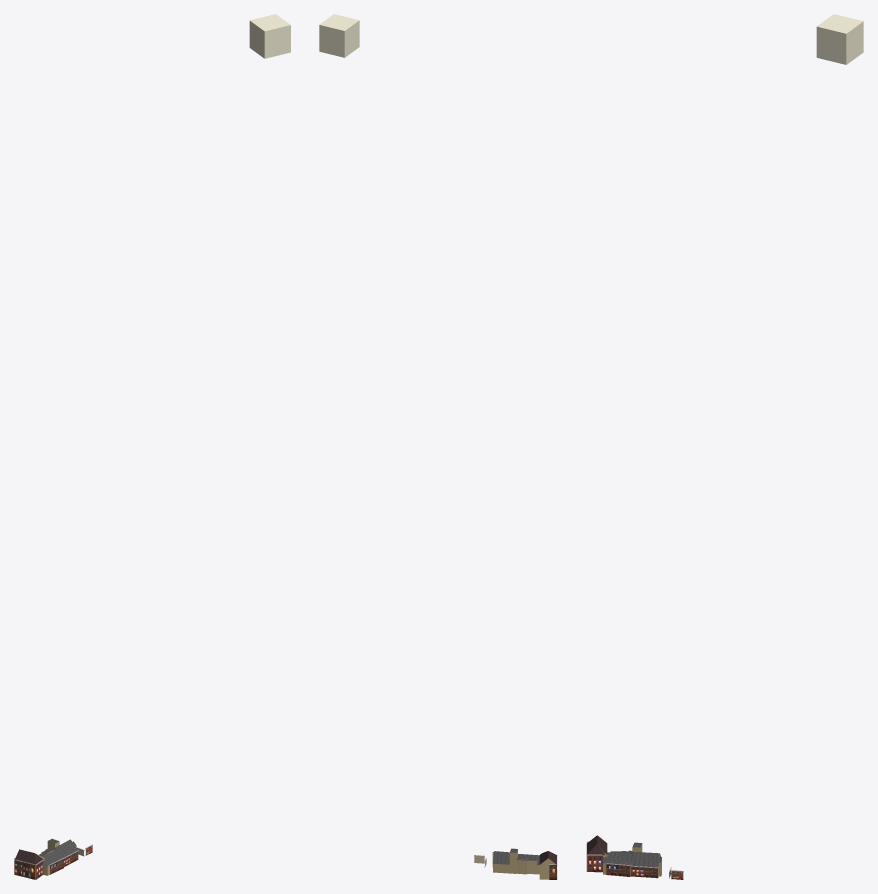
3 renders of one model, left to right at view 1: azimuth 30°, elevation 25°; view 2: azimuth 150°, elevation 25°; view 3: azimuth 330°, elevation 25°, orthographic. The views are drawn at different scales.
Parts seen in each view (by area): view 1: SunDisc; view 2: SunDisc, bldg_6008352860; view 3: SunDisc, bldg_6008352860_roof.
Boxes of the visible parts, x1,y1,x2,y2 form: SunDisc: [249, 14, 290, 58]; SunDisc: [319, 14, 359, 57]; bldg_6008352860: [492, 850, 539, 874]; SunDisc: [816, 14, 863, 64]; bldg_6008352860_roof: [603, 842, 661, 867].
Bounding box in the file's own units: 174 × 529 × 39.08.
Materials: 15 (6 with a texture image).
